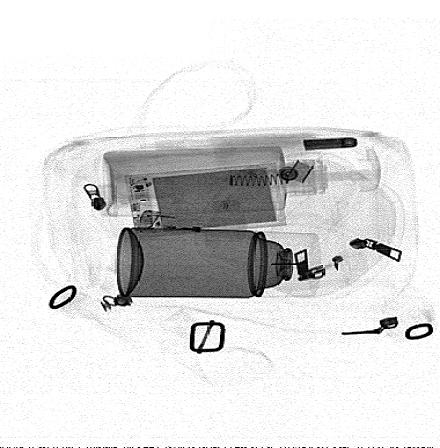Lighter: (138, 211, 246, 240)
Powerbank: (123, 163, 286, 237)
Sprayer: (116, 227, 322, 298)
